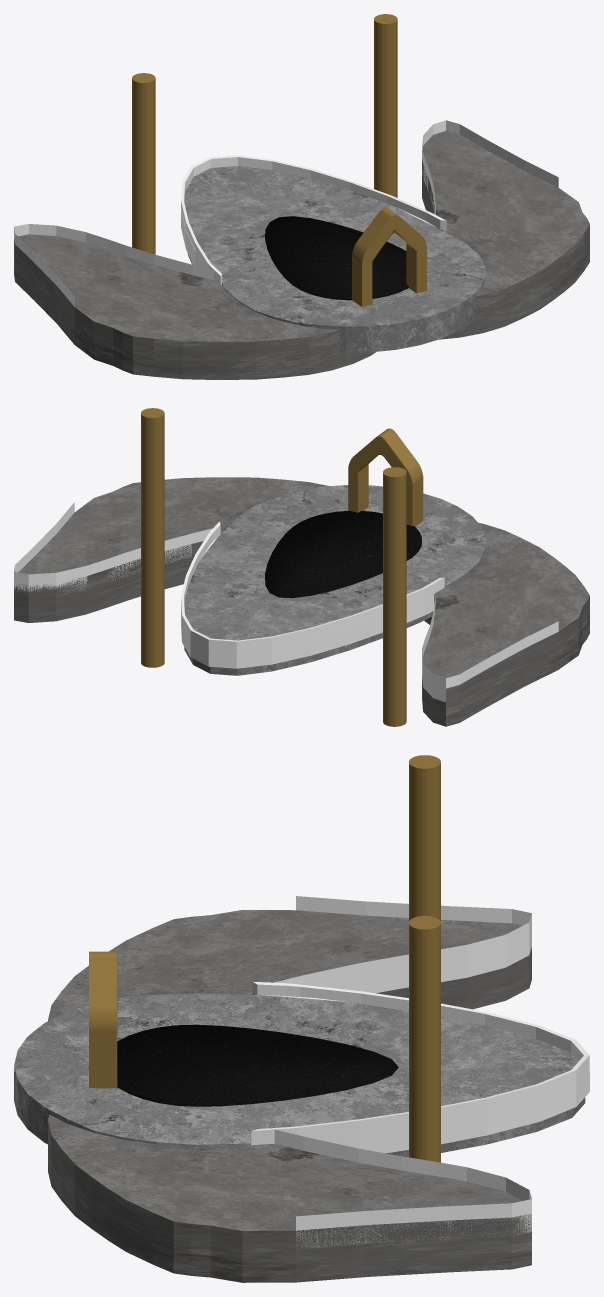
Rendered from phase4-terrace.gltf.
The picture shows the model from 3 angles, top to bottom: view 1: azimuth 30°, elevation 25°; view 2: azimuth 150°, elevation 25°; view 3: azimuth 270°, elevation 25°; orthographic projection. The views are drawn at different scales.
Parts seen in each view (by area): view 1: Cylinder.004, Circle.003, Circle.001, Cylinder.005, Cylinder.003, Cylinder.001, Circle.012, Cube.005; view 2: Cylinder.004, Circle.003, Circle.001, Circle.012, Cylinder.001, Cylinder.003, Cylinder.005, Cube.005; view 3: Cylinder.004, Circle.003, Circle.001, Cylinder.005, Circle.012, Cylinder.003, Cylinder.001, Cube.005.
Part boxes in pixels (box(x1,y1,x2,y2)): Cylinder.004: box(14, 131, 589, 379); Circle.003: box(181, 166, 485, 352); Circle.001: box(265, 216, 408, 300); Cylinder.005: box(14, 120, 558, 306); Cylinder.003: box(374, 14, 397, 197); Cylinder.001: box(132, 73, 155, 254); Circle.012: box(181, 155, 446, 285); Cube.005: box(352, 207, 426, 307); Cylinder.004: box(14, 477, 589, 726); Circle.003: box(184, 485, 485, 675); Circle.001: box(265, 510, 421, 598); Circle.012: box(181, 521, 444, 668); Cylinder.001: box(383, 467, 406, 726); Cylinder.003: box(141, 408, 164, 667); Cylinder.005: box(14, 502, 558, 702); Cube.005: box(348, 428, 423, 526); Cylinder.004: box(48, 910, 531, 1282); Circle.003: box(14, 993, 585, 1157); Circle.001: box(117, 1024, 398, 1106); Cylinder.005: box(270, 896, 531, 1248); Circle.012: box(251, 981, 589, 1153); Cylinder.003: box(409, 916, 440, 1162); Cylinder.001: box(409, 755, 440, 921); Cube.005: box(89, 951, 117, 1088).
Bounding box in the file's own units: 47.38 × 23.31 × 35.77.
Materials: 5 (3 with a texture image).
